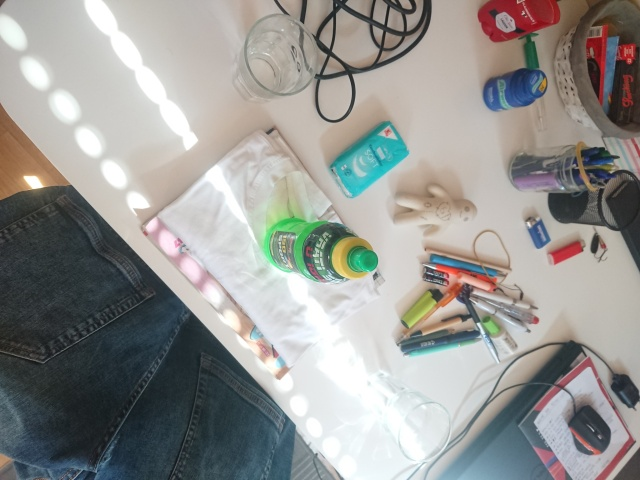Vindi Iso Sport Lemon-Grapefruit 500mL: (260, 215, 381, 287)
